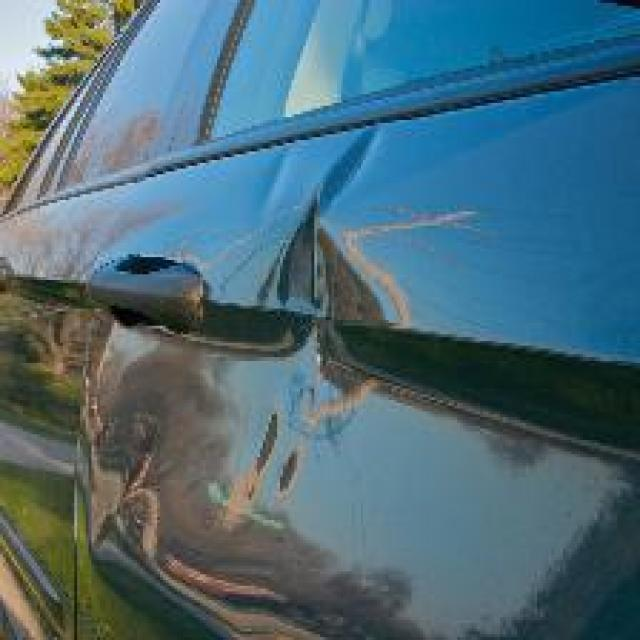damaged: (69, 132, 478, 637)
